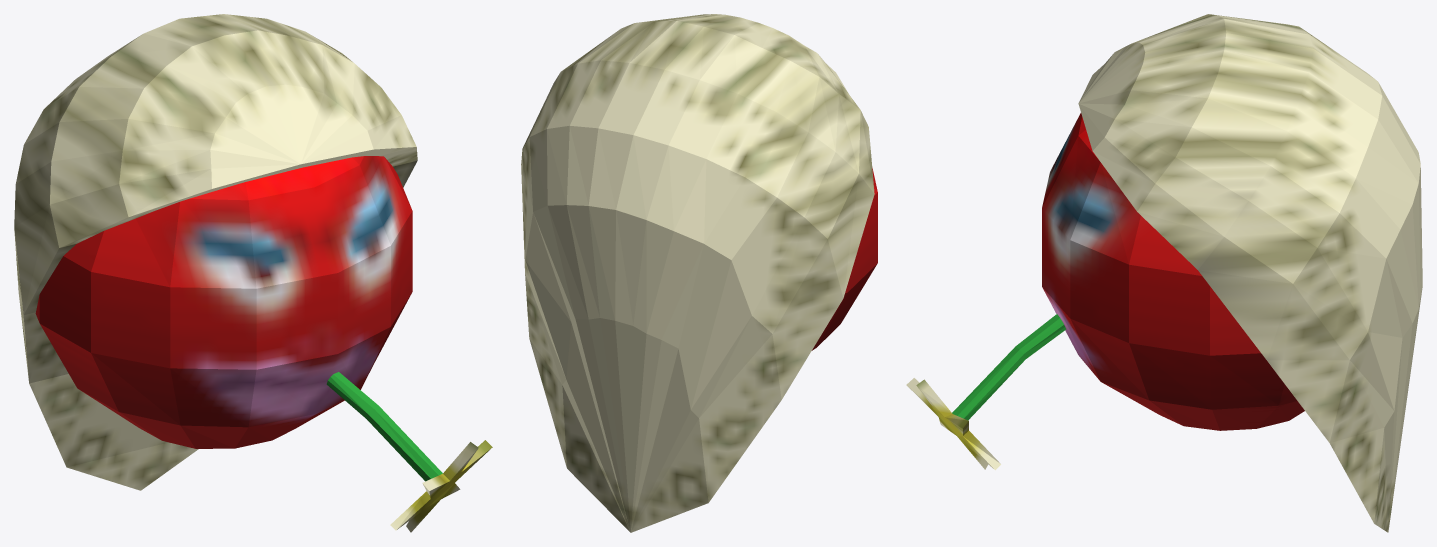
Rendered from InvTomat.glb.
3 views of the same model, side by side, from view 1: azimuth 30°, elevation 25°; view 2: azimuth 150°, elevation 25°; view 3: azimuth 270°, elevation 25° (orthographic). The views are drawn at different scales.
Visible parts, largest first — view 1: InvTomat; view 2: InvTomat; view 3: InvTomat.
Part boxes in pixels (x1,y1,x2,y2): InvTomat: [14, 14, 492, 532]; InvTomat: [521, 14, 877, 532]; InvTomat: [906, 14, 1422, 532].
Size of the model in its own units: 25.48 by 35.09 by 32.86.
Materials: 1 (1 with a texture image).
